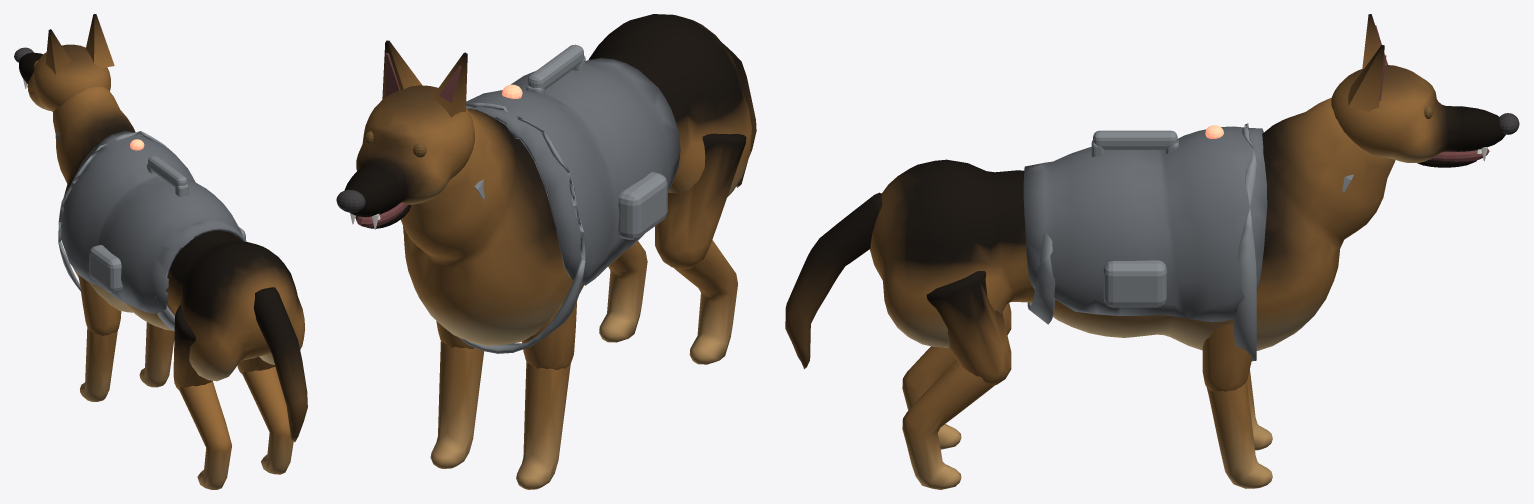
Rendered from k9-dog.glb.
The picture shows the model from 3 angles, left to right: view 1: azimuth 30°, elevation 25°; view 2: azimuth 150°, elevation 25°; view 3: azimuth 270°, elevation 25°; orthographic projection. The views are drawn at different scales.
Parts seen in each view (by area): view 1: K9_Vest, K9_Dog, K9_Head, K9_Tail, K9_LegBR_Lo, K9_LegBL_Lo, K9_LegFR_Lo, K9_LegFL_Lo, K9_LegBR, K9_LegFR, K9_LegBL; view 2: K9_Dog, K9_Vest, K9_Head, K9_LegBR, K9_LegFR_Lo, K9_LegFL_Lo, K9_LegBR_Lo, K9_LegBL_Lo, K9_LegFR, K9_Tail, K9_Jaw; view 3: K9_Dog, K9_Vest, K9_Head, K9_Tail, K9_LegBL, K9_LegBL_Lo, K9_LegFL_Lo, K9_LegFL, K9_LegBR_Lo, K9_Jaw.
Part boxes in pixels (<box>): K9_Vest: <box>56,131,246,331</box>; K9_Dog: <box>53,86,304,381</box>; K9_Head: <box>14,14,114,111</box>; K9_Tail: <box>253,287,307,441</box>; K9_LegBR_Lo: <box>179,381,231,489</box>; K9_LegBL_Lo: <box>243,366,293,474</box>; K9_LegFR_Lo: <box>80,327,117,401</box>; K9_LegFL_Lo: <box>139,322,174,387</box>; K9_LegBR: <box>173,305,212,390</box>; K9_LegFR: <box>78,274,121,335</box>; K9_LegBL: <box>237,356,274,374</box>; K9_Dog: <box>400,14,751,345</box>; K9_Vest: <box>403,44,680,353</box>; K9_Head: <box>336,40,474,229</box>; K9_LegBR: <box>655,133,746,269</box>; K9_LegFR_Lo: <box>516,362,570,489</box>; K9_LegFL_Lo: <box>430,341,483,468</box>; K9_LegBR_Lo: <box>674,240,737,364</box>; K9_LegBL_Lo: <box>599,241,647,342</box>; K9_LegFR: <box>522,300,577,369</box>; K9_Tail: <box>721,42,756,187</box>; K9_Jaw: <box>355,202,411,228</box>; K9_Dog: <box>870,98,1395,350</box>; K9_Vest: <box>1023,123,1353,361</box>; K9_Head: <box>1331,14,1519,162</box>; K9_Tail: <box>785,192,882,369</box>; K9_LegBL: <box>926,271,1011,385</box>; K9_LegBL_Lo: <box>902,360,994,489</box>; K9_LegFL_Lo: <box>1206,381,1272,488</box>; K9_LegFL: <box>1202,324,1251,391</box>; K9_LegBR_Lo: <box>902,346,961,449</box>; K9_Jaw: <box>1417,148,1489,167</box>.
Bounding box in the file's own units: 0.39 × 0.9134 × 1.39.
